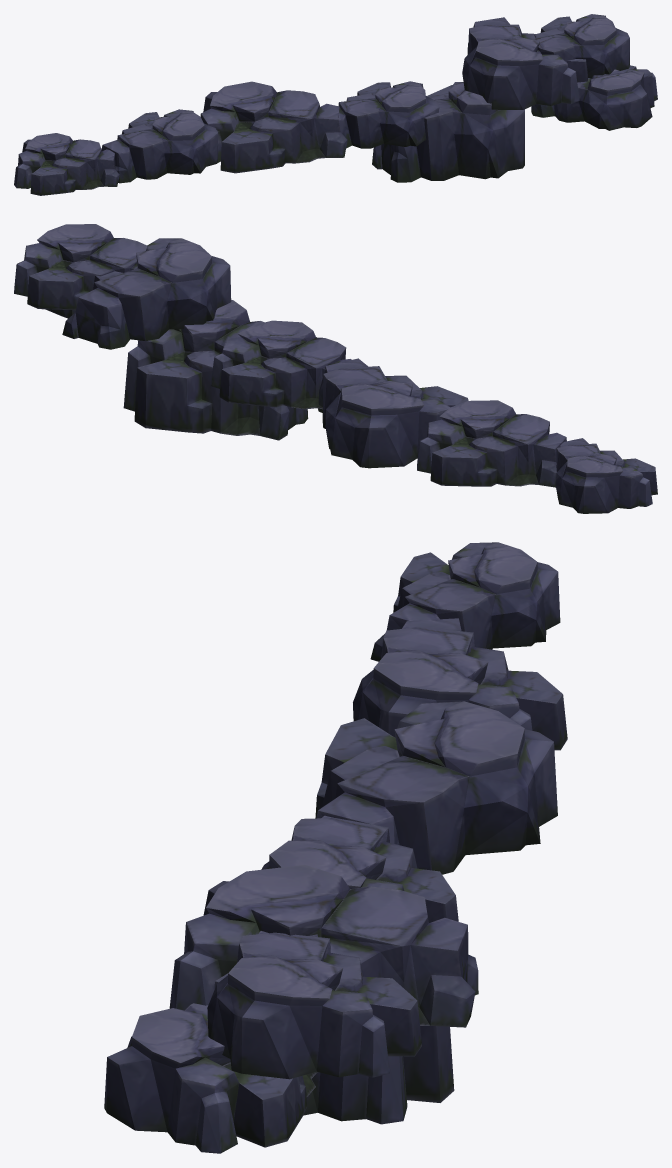
The model's file is Area07_1.fbx.
3 renders of one model, top to bottom at view 1: azimuth 30°, elevation 25°; view 2: azimuth 150°, elevation 25°; view 3: azimuth 270°, elevation 25°, orthographic. The views are drawn at different scales.
Visible parts, largest first — view 1: Area07_1; view 2: Area07_1; view 3: Area07_1.
Boxes of the visible parts, <box> form: Area07_1: <box>14,14,657,195</box>; Area07_1: <box>14,224,657,513</box>; Area07_1: <box>104,542,567,1153</box>.
Bounding box in the file's own units: 4488 × 800 × 1561.
